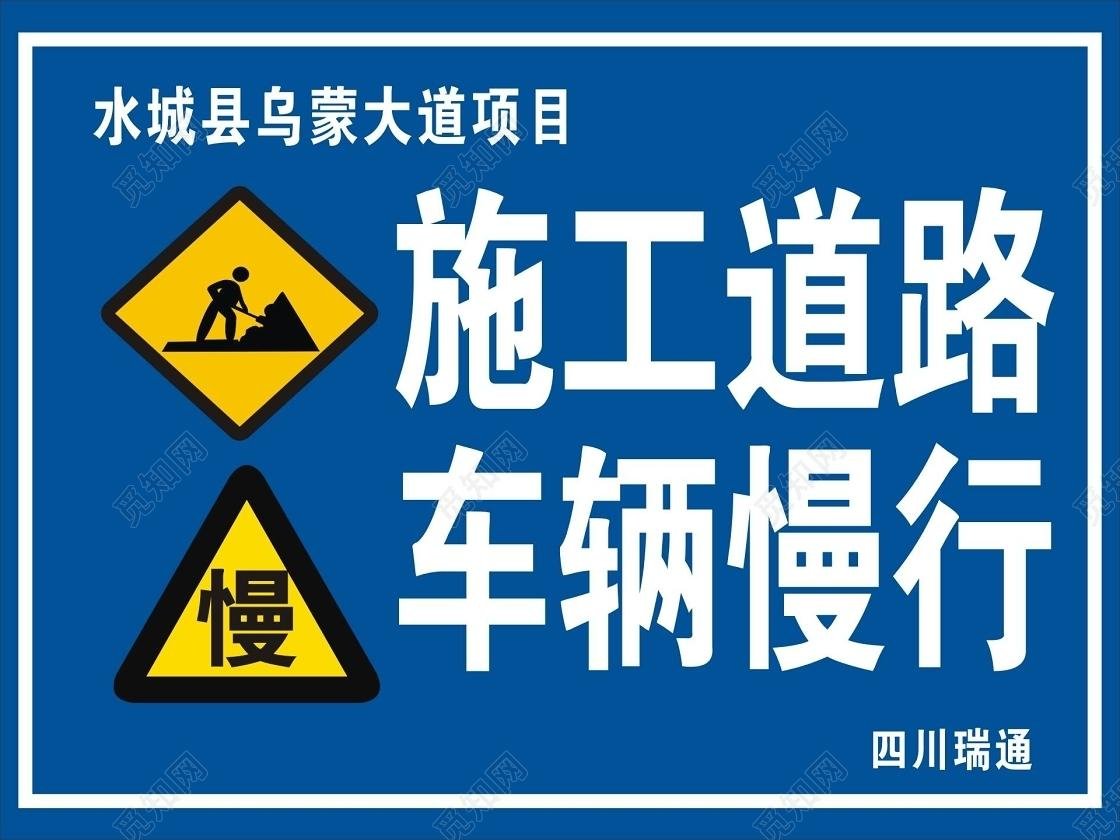sign: (66, 160, 1074, 723)
